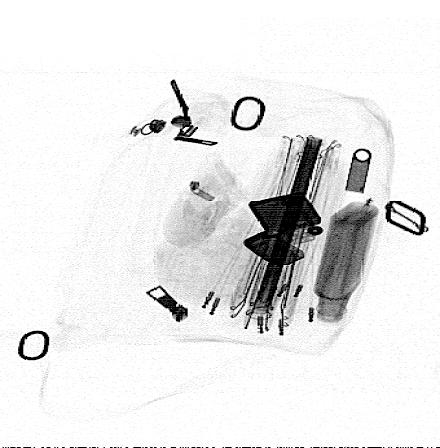Lighter: (243, 191, 326, 266)
